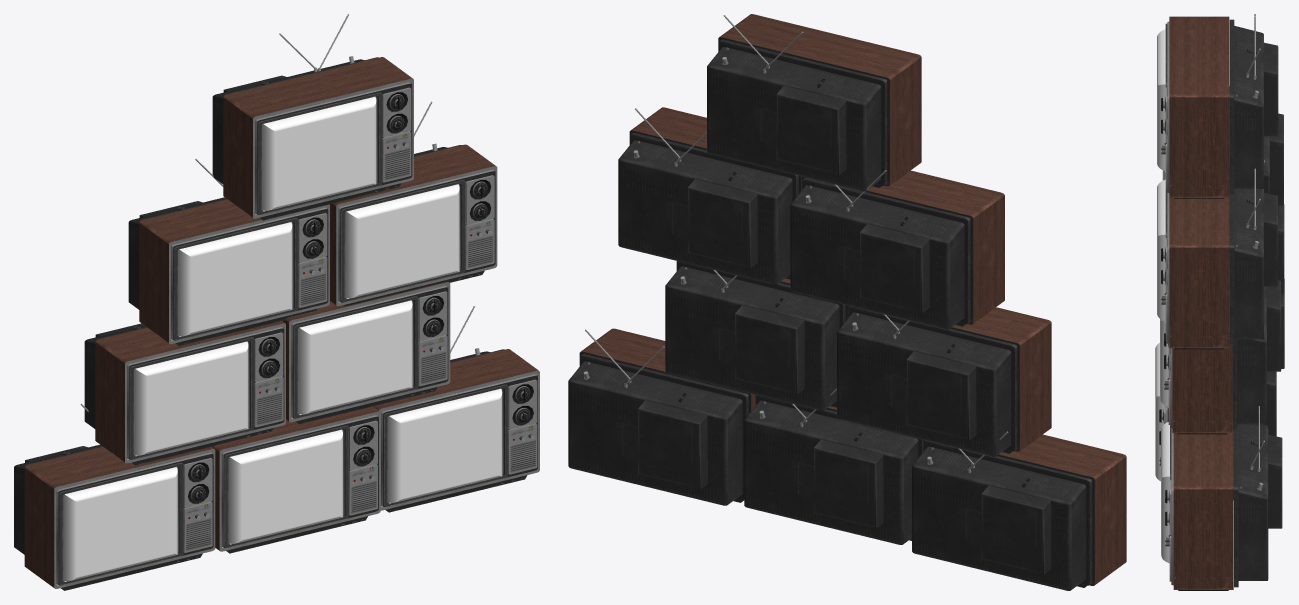
Rendered from old_tv_draco.glb.
The picture shows the model from 3 angles, left to right: view 1: azimuth 30°, elevation 25°; view 2: azimuth 150°, elevation 25°; view 3: azimuth 270°, elevation 25°; orthographic projection. The views are drawn at different scales.
Parts seen in each view (by area): view 1: TV_TV_0.007, TV_TV_0.005, TV_TV_0.002, TV_TV_0.003, Screen7, Screen8, Screen6, Screen2, Screen3, Screen1, Screen4, Screen5 (+4 smaller); view 2: TV_TV_0.007, TV_TV_0.005, TV_TV_0.002, TV_TV_0.003, TV_TV_0.004, TV_TV_0.006, TV_TV_0.001, TV; view 3: TV_TV_0.007, TV_TV_0.004, TV_TV_0.006, TV_TV_0.001, TV_TV_0.005, Screen3, Screen1, Screen8, TV, Screen7, TV_TV_0.003, Screen5 (+1 smaller).
Part boxes in pixels (bbox=[...]): TV_TV_0.007: bbox=[212, 14, 413, 220]; TV_TV_0.005: bbox=[128, 159, 329, 345]; TV_TV_0.002: bbox=[14, 403, 215, 590]; TV_TV_0.003: bbox=[84, 321, 285, 465]; Screen7: bbox=[228, 429, 343, 544]; Screen8: bbox=[387, 388, 502, 503]; Screen6: bbox=[63, 467, 177, 581]; Screen2: bbox=[178, 222, 292, 336]; Screen3: bbox=[345, 184, 459, 298]; Screen1: bbox=[262, 96, 376, 211]; Screen4: bbox=[134, 341, 248, 456]; Screen5: bbox=[298, 300, 412, 414]; TV_TV_0.007: bbox=[707, 14, 921, 191]; TV_TV_0.005: bbox=[790, 170, 1004, 329]; TV_TV_0.002: bbox=[912, 431, 1126, 590]; TV_TV_0.003: bbox=[837, 305, 1051, 456]; TV_TV_0.004: bbox=[568, 328, 755, 505]; TV_TV_0.006: bbox=[618, 107, 801, 284]; TV_TV_0.001: bbox=[665, 261, 848, 410]; TV: bbox=[744, 388, 923, 544]; TV_TV_0.007: bbox=[1161, 14, 1278, 198]; TV_TV_0.004: bbox=[1165, 406, 1282, 590]; TV_TV_0.006: bbox=[1161, 168, 1278, 349]; TV_TV_0.001: bbox=[1164, 267, 1281, 434]; TV_TV_0.005: bbox=[1229, 86, 1283, 266]; Screen3: bbox=[1157, 179, 1165, 322]; Screen1: bbox=[1157, 28, 1165, 171]; Screen8: bbox=[1161, 422, 1169, 563]; TV: bbox=[1159, 355, 1276, 499]; Screen7: bbox=[1155, 342, 1163, 481]; TV_TV_0.003: bbox=[1232, 204, 1284, 354]; Screen5: bbox=[1160, 319, 1168, 407].
Size of the model in its own units: 1274 by 1180 by 291.
16 materials, 8 textured.
